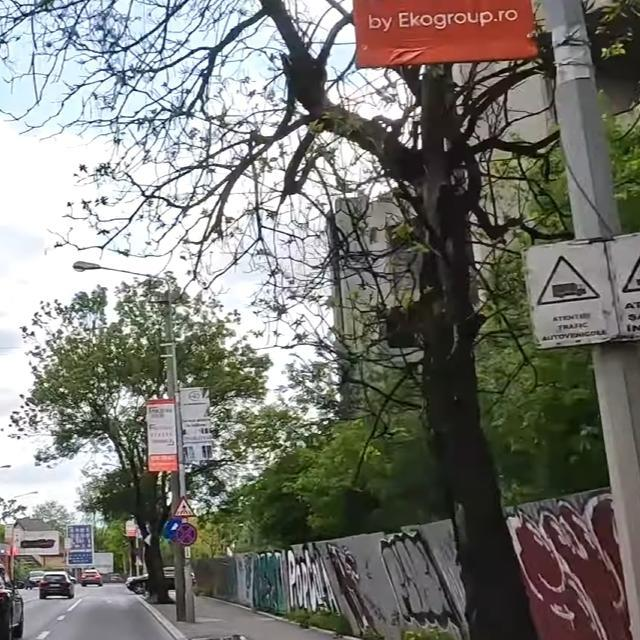forb_waiting: (176, 524, 197, 545)
warn_crosswalk: (173, 496, 195, 517)
